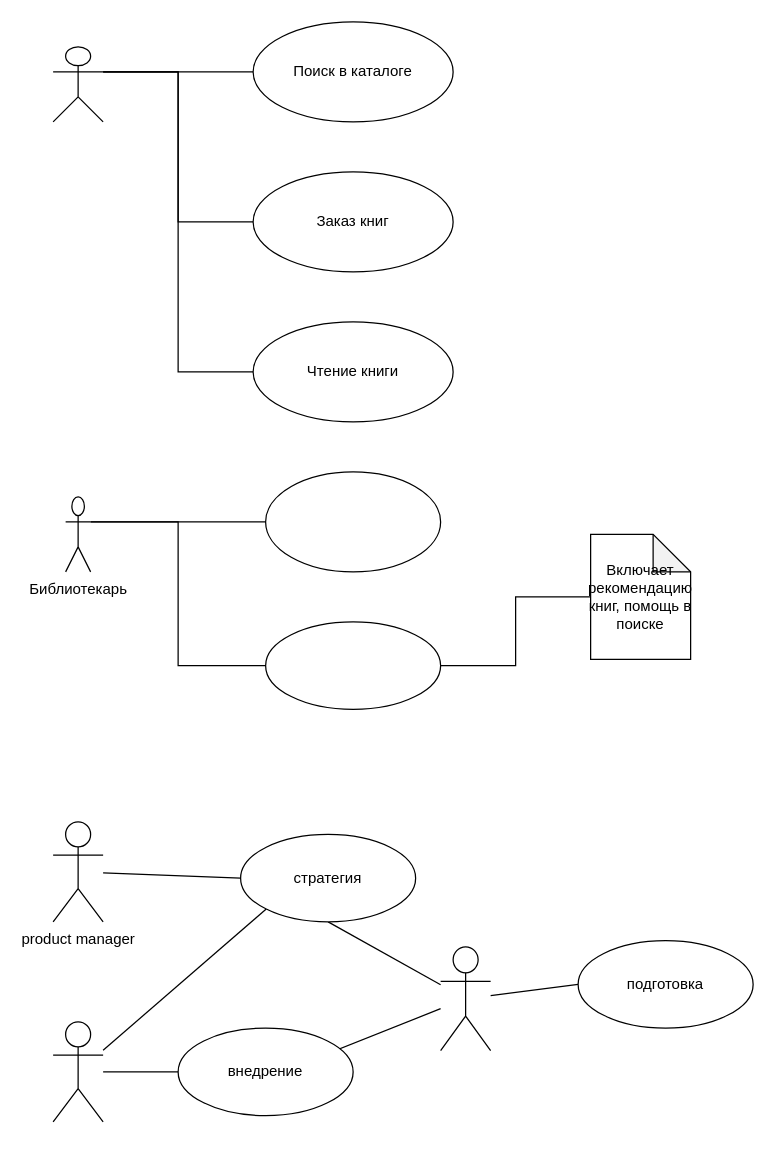
Image size: 775x1170. Some labels were removed from this diagram. The box of each missing label's shape, as (x1, y1, x2, y2) in pixels:
architect: (52, 1021, 103, 1122)
build master: (439, 946, 491, 1051)
Выдача заказа: (264, 471, 441, 572)
Консультация: (264, 621, 441, 709)
Студент: (52, 46, 103, 122)
